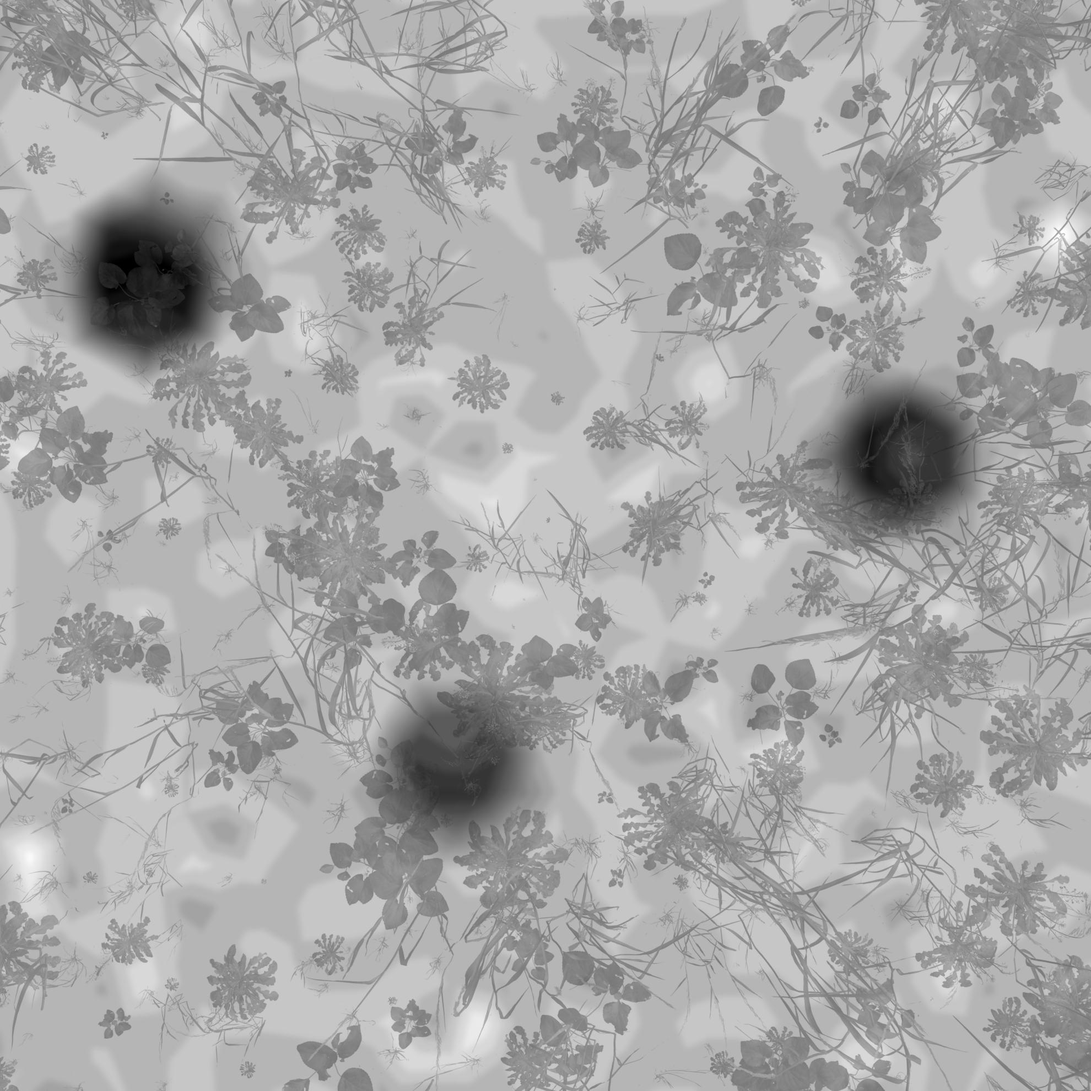landmine: (807, 373, 973, 548), (60, 206, 223, 362), (395, 711, 531, 844)
